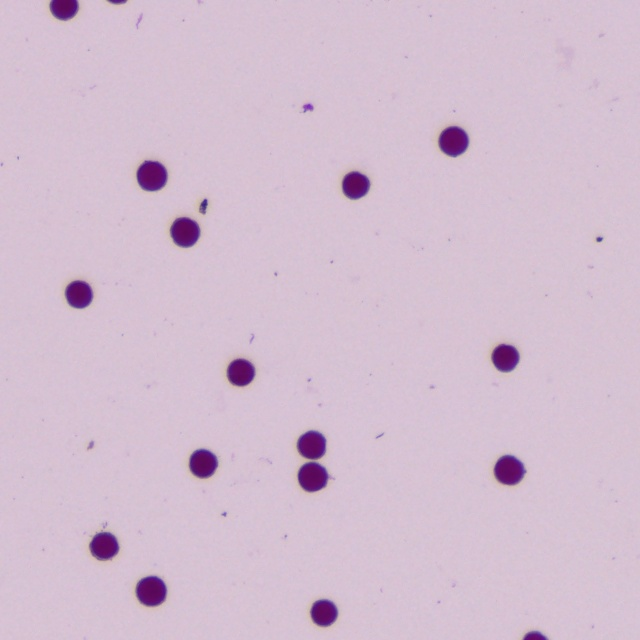viable: (495, 455, 525, 485), (137, 577, 166, 605), (138, 162, 167, 190), (440, 127, 468, 156), (171, 218, 199, 247), (299, 463, 327, 491), (298, 431, 325, 458), (190, 450, 217, 477), (228, 359, 254, 386), (66, 281, 92, 308), (343, 172, 369, 199), (492, 345, 519, 371), (91, 533, 118, 559), (311, 600, 337, 626), (51, 1, 77, 20)
